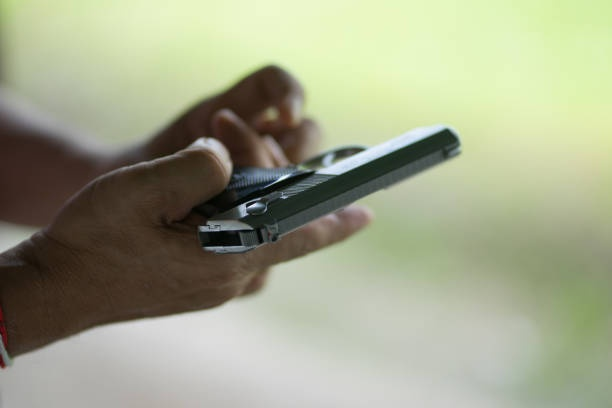pistol: (166, 124, 463, 260)
